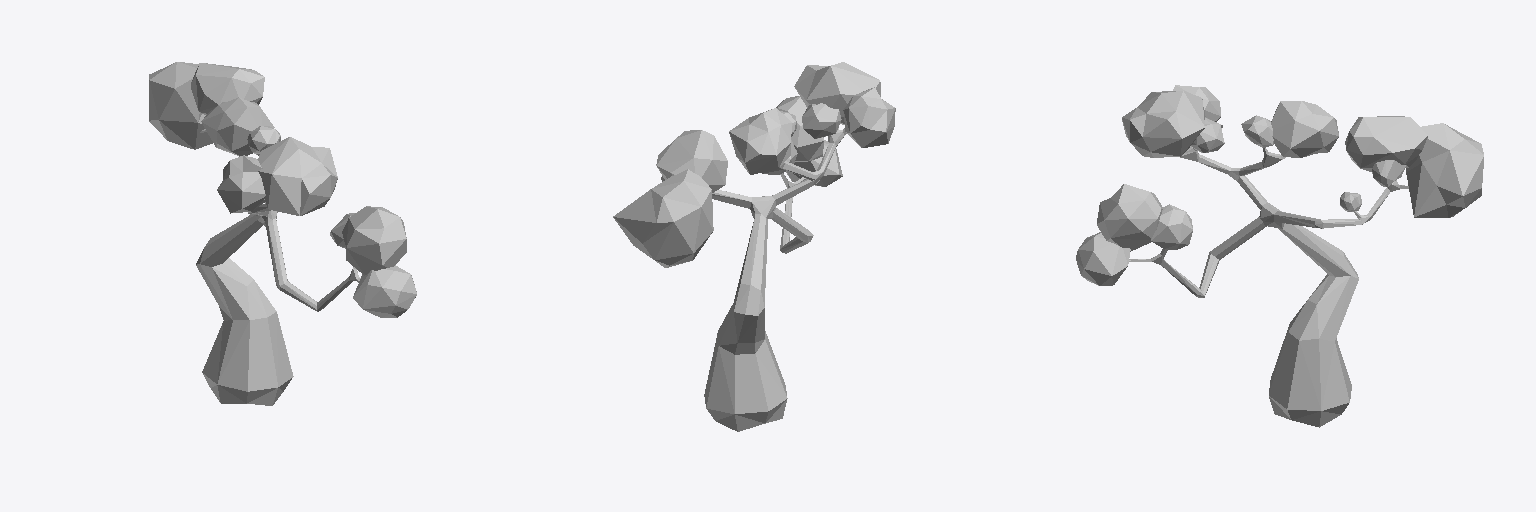
Rendered from boom.obj.
The picture shows the model from 3 angles: view 1: azimuth 30°, elevation 25°; view 2: azimuth 150°, elevation 25°; view 3: azimuth 270°, elevation 25°; orthographic projection.
Visible parts, largest first — view 1: Cube, Icosphere.005, Icosphere.011, Icosphere.002, Icosphere.009, Icosphere.007, Icosphere, Icosphere.004, Icosphere.006; view 2: Cube, Icosphere.011, Icosphere.007, Icosphere.009, Icosphere.005, Icosphere.004, Icosphere.002, Icosphere.003, Icosphere; view 3: Cube, Icosphere.011, Icosphere.005, Icosphere.009, Icosphere.002, Icosphere.007, Icosphere, Icosphere.001, Icosphere.006, Icosphere.003, Icosphere.004, Icosphere.010.
Boxes of the visible parts, <box> form: Cube: <box>196,129,360,405</box>; Icosphere.005: <box>258,137,337,215</box>; Icosphere.011: <box>149,62,212,149</box>; Icosphere.002: <box>342,206,406,275</box>; Icosphere.009: <box>191,63,264,114</box>; Icosphere.007: <box>201,97,274,155</box>; Icosphere: <box>353,265,416,317</box>; Icosphere.004: <box>217,155,265,213</box>; Icosphere.006: <box>247,126,279,153</box>; Cube: <box>704,128,846,431</box>; Icosphere.011: <box>613,169,713,267</box>; Icosphere.007: <box>729,108,791,174</box>; Icosphere.009: <box>656,130,727,192</box>; Icosphere.005: <box>794,62,880,124</box>; Icosphere.004: <box>843,87,895,147</box>; Icosphere.002: <box>776,96,823,161</box>; Icosphere.003: <box>802,103,841,138</box>; Icosphere: <box>786,140,842,186</box>; Cube: <box>1129,146,1408,427</box>; Icosphere.011: <box>1406,123,1483,217</box>; Icosphere.005: <box>1122,91,1204,157</box>; Icosphere.009: <box>1345,116,1427,171</box>; Icosphere.002: <box>1097,184,1162,251</box>; Icosphere.007: <box>1271,101,1338,157</box>; Icosphere: <box>1076,232,1130,285</box>; Icosphere.001: <box>1151,204,1192,249</box>; Icosphere.006: <box>1241,115,1273,147</box>; Icosphere.003: <box>1191,117,1224,152</box>; Icosphere.004: <box>1173,85,1220,121</box>; Icosphere.010: <box>1372,160,1405,187</box>.
Size of the model in its own units: 1.9 by 3.65 by 4.27.